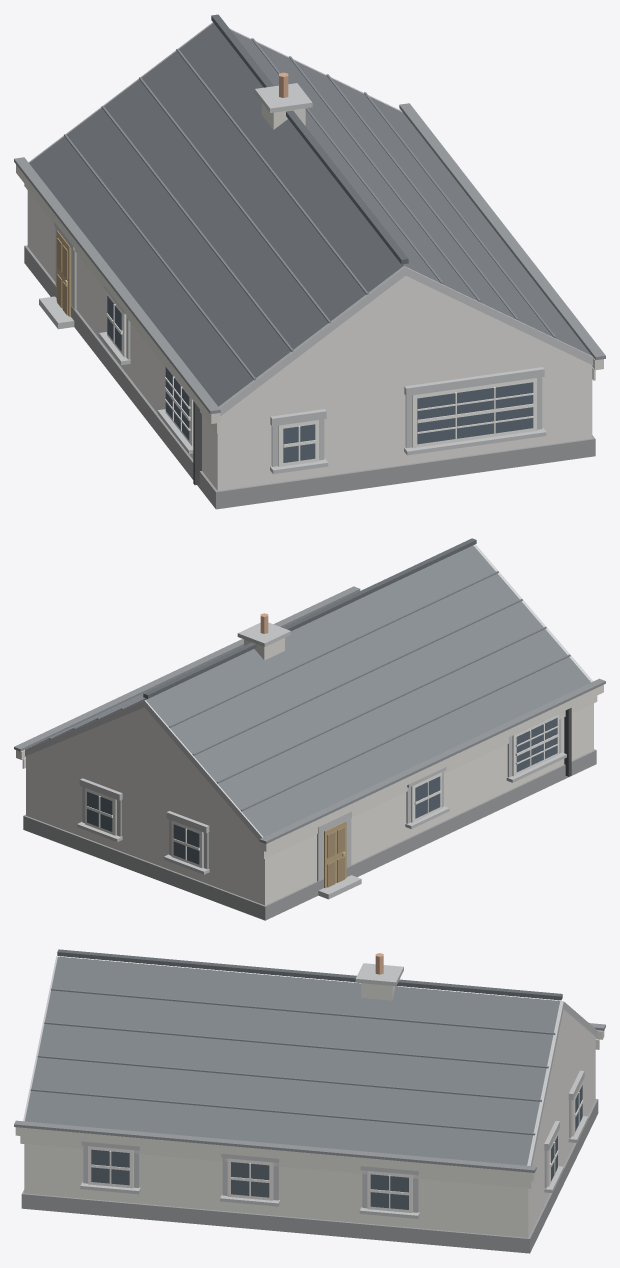
The picture shows the model from 3 angles, top to bottom: view 1: azimuth 30°, elevation 25°; view 2: azimuth 150°, elevation 25°; view 3: azimuth 270°, elevation 25°; orthographic projection. The views are drawn at different scales.
Visible parts, largest first — view 1: slate, harl, stone_band, plinth, lead, slate_lt, frame, window_glass_001, slate_dk, string, window_glass_002, window_glass_004 (+2 smaller); view 2: slate, harl, plinth, stone_band, lead, slate_lt, string, frame, slate_dk, window_glass_004, door_wood_p, window_glass_009 (+4 smaller); view 3: slate, harl, plinth, string, stone_band, slate_lt, lead, slate_dk, frame, window_glass_005, window_glass_007, window_glass_006 (+1 smaller).
Part boxes in pixels (x1=…): slate: x1=29, y1=23, x2=591, y2=406; harl: x1=27, y1=190, x2=592, y2=490; stone_band: x1=28, y1=22, x2=592, y2=474; plinth: x1=24, y1=245, x2=595, y2=509; lead: x1=14, y1=103, x2=605, y2=414; slate_lt: x1=64, y1=38, x2=555, y2=380; frame: x1=106, y1=291, x2=536, y2=466; window_glass_001: x1=417, y1=382, x2=533, y2=444; slate_dk: x1=211, y1=14, x2=408, y2=264; string: x1=16, y1=109, x2=603, y2=433; window_glass_002: x1=283, y1=424, x2=315, y2=462; window_glass_004: x1=165, y1=367, x2=189, y2=440; slate: x1=29, y1=545, x2=590, y2=837; harl: x1=26, y1=703, x2=593, y2=905; plinth: x1=23, y1=749, x2=596, y2=920; stone_band: x1=25, y1=544, x2=593, y2=899; lead: x1=14, y1=586, x2=605, y2=843; slate_lt: x1=49, y1=571, x2=570, y2=811; string: x1=16, y1=684, x2=603, y2=858; frame: x1=85, y1=714, x2=558, y2=868; slate_dk: x1=143, y1=538, x2=476, y2=698; window_glass_004: x1=516, y1=717, x2=557, y2=771; door_wood_p: x1=327, y1=827, x2=344, y2=887; window_glass_009: x1=173, y1=824, x2=199, y2=864; slate: x1=25, y1=956, x2=560, y2=1165; harl: x1=24, y1=1009, x2=595, y2=1237; plinth: x1=21, y1=1099, x2=598, y2=1253; string: x1=15, y1=1030, x2=604, y2=1188; stone_band: x1=23, y1=956, x2=597, y2=1218; slate_lt: x1=30, y1=988, x2=555, y2=1135; lead: x1=14, y1=1023, x2=605, y2=1172; slate_dk: x1=57, y1=949, x2=562, y2=1000; frame: x1=88, y1=1082, x2=583, y2=1212; window_glass_005: x1=91, y1=1149, x2=129, y2=1185; window_glass_007: x1=370, y1=1174, x2=408, y2=1209; window_glass_006: x1=231, y1=1162, x2=269, y2=1197.
Bounding box in the file's own units: 12.74 × 6.57 × 16.6.
